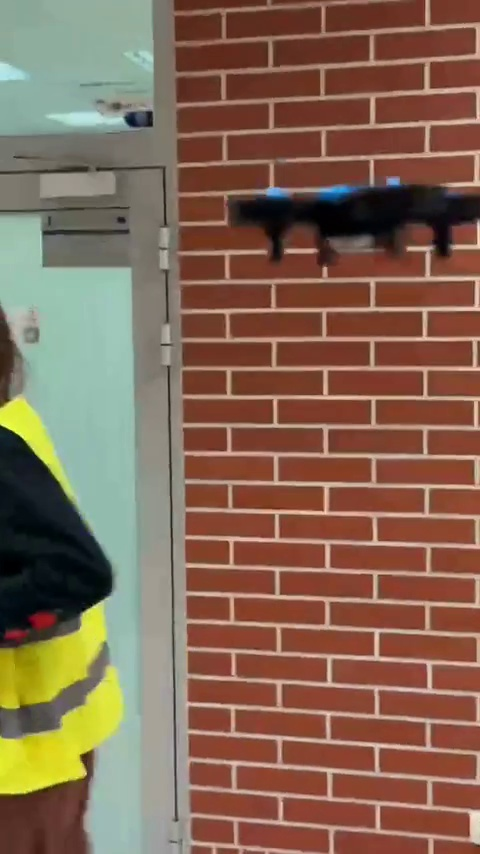drone: (234, 183, 480, 264)
